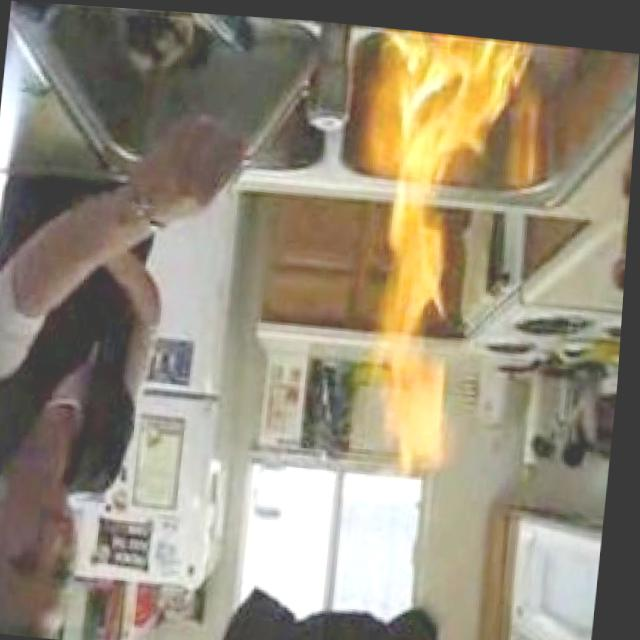helmet: (347, 21, 523, 471)
